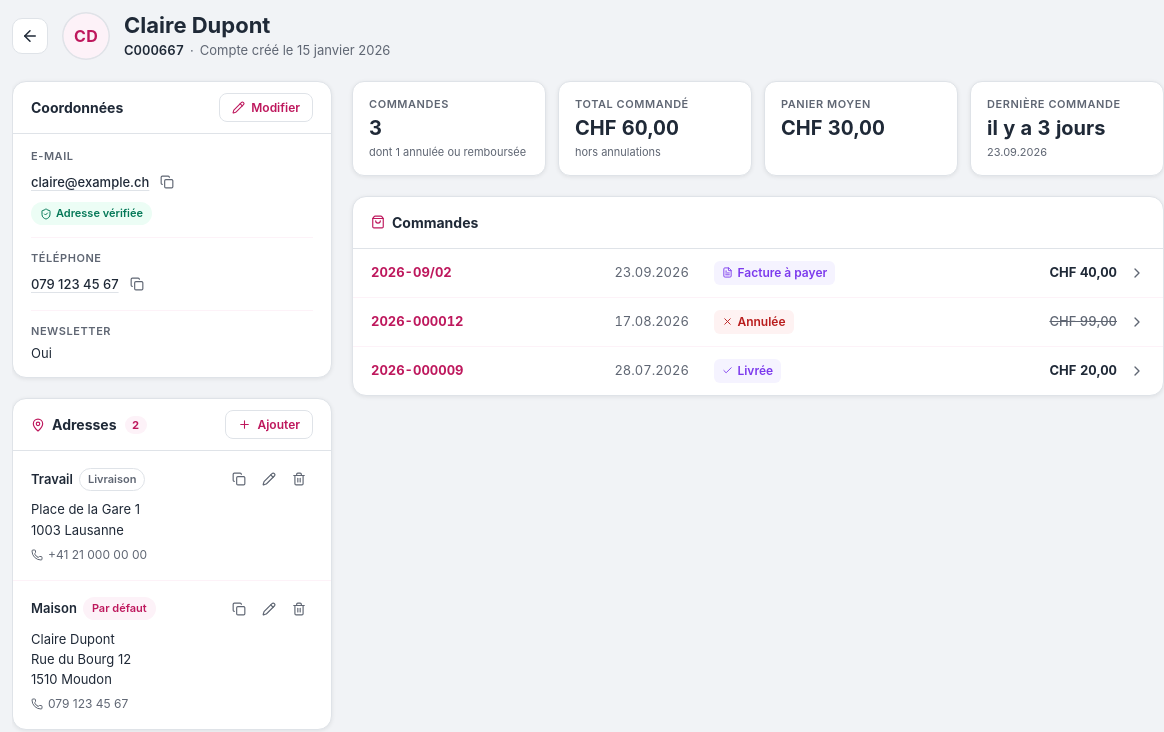
it: CustomerDetail — fiche client › « Modifier » ouvre le formulaire des coordonnées, « Annuler » le referme
What coordinates should you click on to do the following:
click the button "Modifier"
I would click on:
 (266, 107)
Its box is [219,93,313,122].
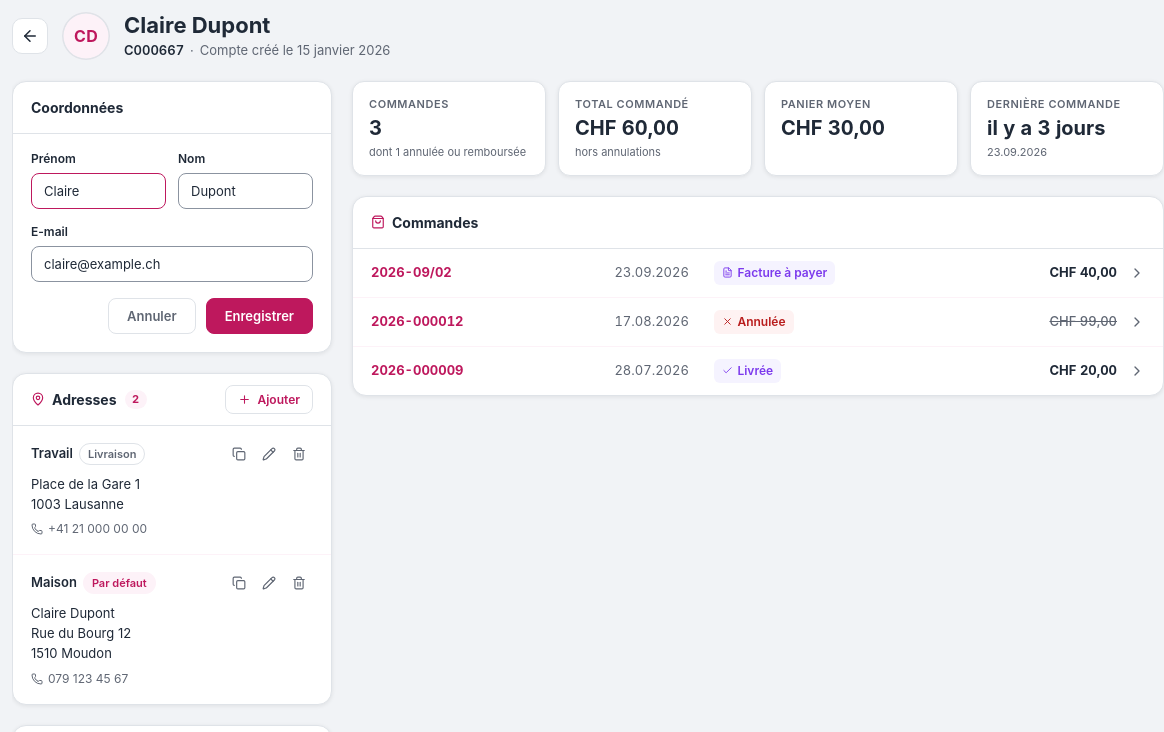
Expected: the field labelled "E-mail" holds "claire@example.ch", [31,246,313,282]
What coordinates should you click on to do the following:
click the button "Annuler"
I would click on:
 (152, 316)
Its box is [108,298,196,334].
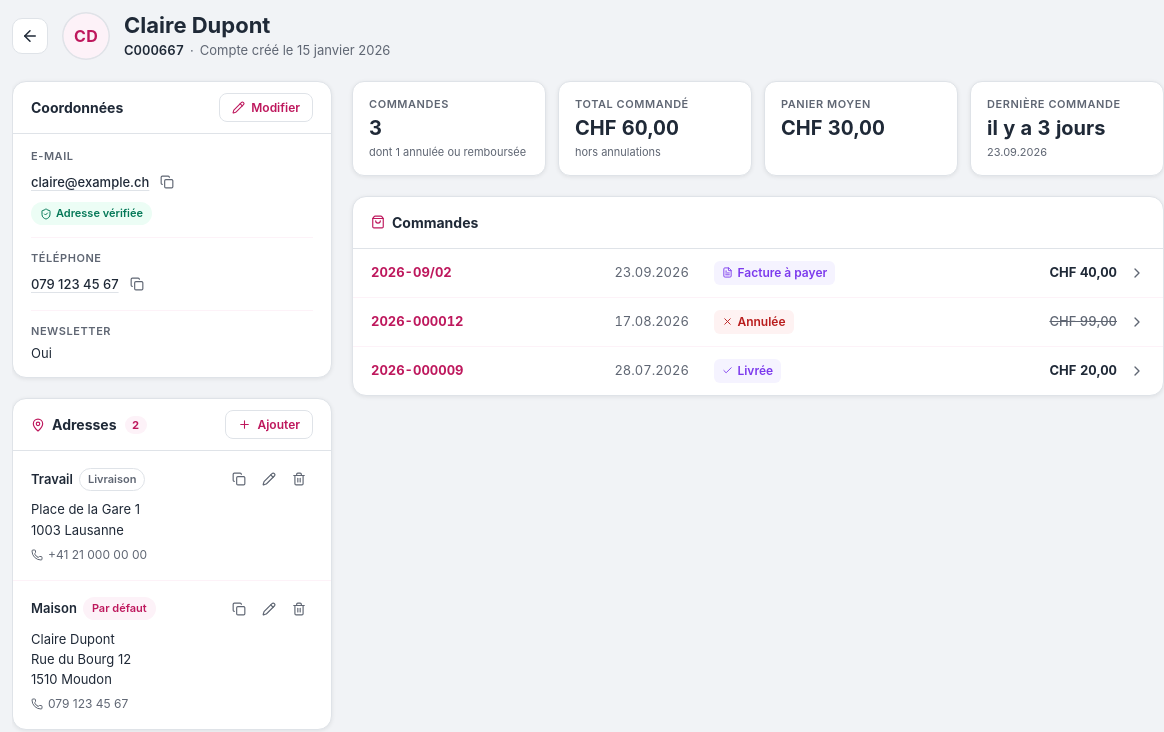
Expected: the button "Modifier" is shown, [219,93,313,122]
